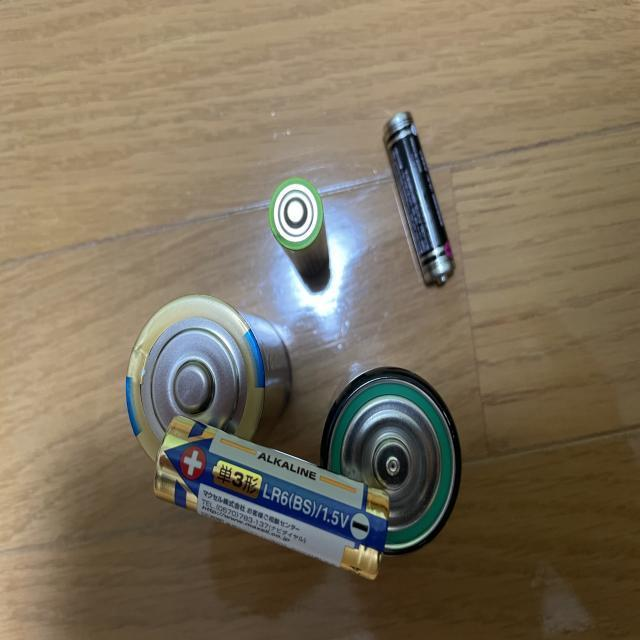battery: (152, 411, 394, 577), (123, 291, 301, 491), (312, 365, 462, 561), (382, 107, 460, 288), (268, 175, 334, 289)
